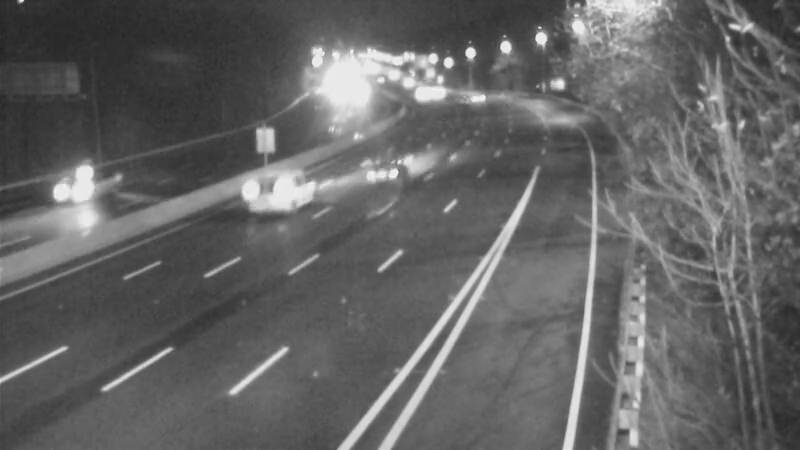vehicle: (345, 135, 425, 215), (224, 152, 304, 232), (31, 144, 111, 224), (415, 66, 465, 116), (399, 67, 449, 117), (446, 74, 496, 124)
